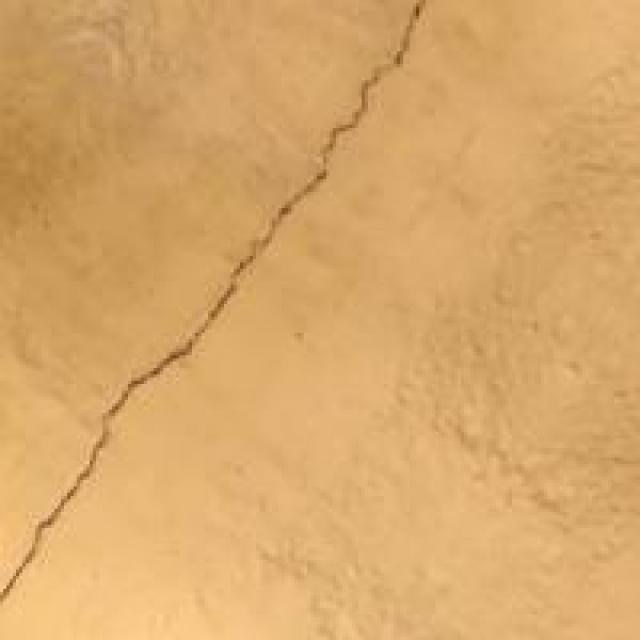Crack: (0, 0, 429, 624)
